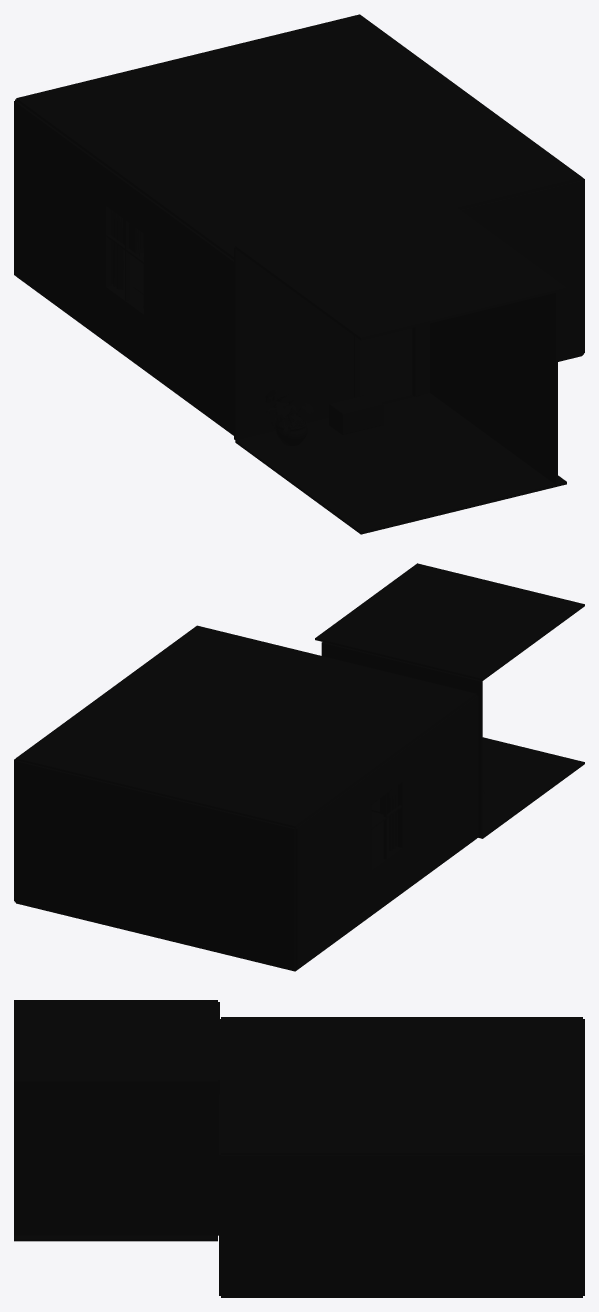
Rendered from screening.glb.
The picture shows the model from 3 angles, top to bottom: view 1: azimuth 30°, elevation 25°; view 2: azimuth 150°, elevation 25°; view 3: azimuth 270°, elevation 25°; orthographic projection. The views are drawn at different scales.
Visible parts, largest first — view 1: room_shell, room_props; view 2: room_shell, room_props; view 3: room_shell.
Part boxes in pixels (x1,y1,x2,y2): room_shell: (14, 14, 584, 534); room_props: (105, 204, 420, 445); room_shell: (14, 563, 584, 971); room_props: (371, 780, 484, 871); room_shell: (14, 1000, 584, 1297).
Size of the model in its own units: 6.14 by 3.28 by 10.64.
2 materials, 2 textured.
